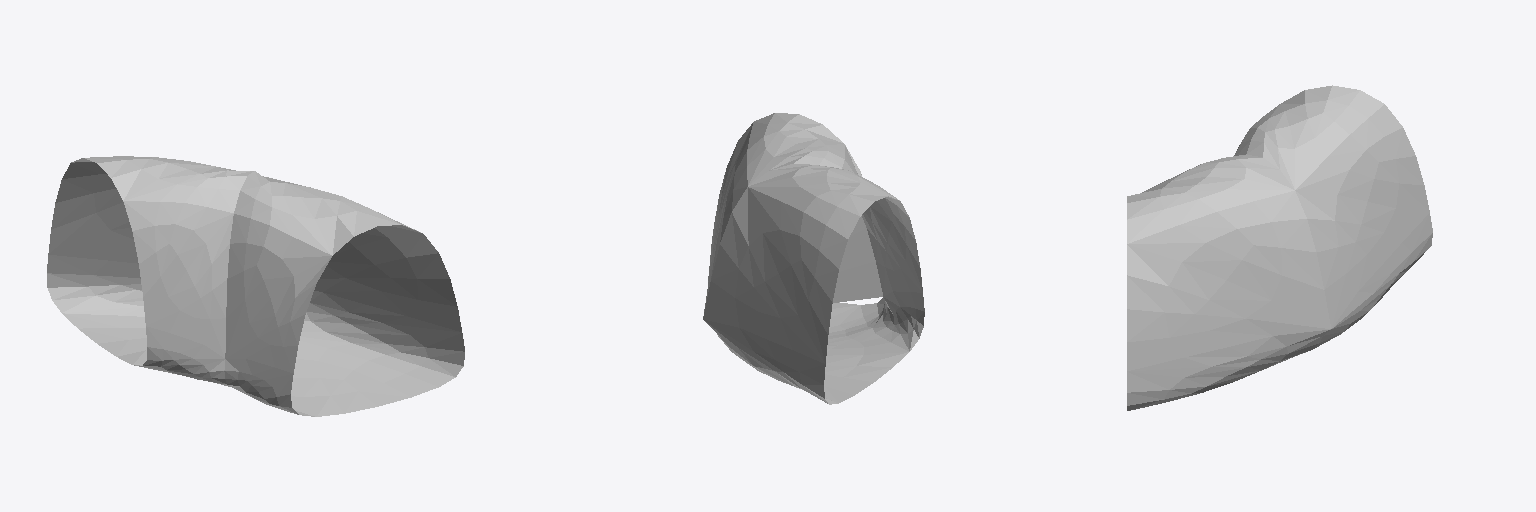
The model's file is cave_902_1.obj.
3 views of the same model, side by side, from view 1: azimuth 30°, elevation 25°; view 2: azimuth 150°, elevation 25°; view 3: azimuth 270°, elevation 25° (orthographic).
Visible parts, largest first — view 1: cave_902_1_Cube.074; view 2: cave_902_1_Cube.074; view 3: cave_902_1_Cube.074.
Boxes of the visible parts, x1,y1,x2,y2 form: cave_902_1_Cube.074: [47, 156, 464, 416]; cave_902_1_Cube.074: [703, 113, 924, 404]; cave_902_1_Cube.074: [1127, 85, 1432, 410].
Size of the model in its own units: 8.94 by 6.81 by 8.94.